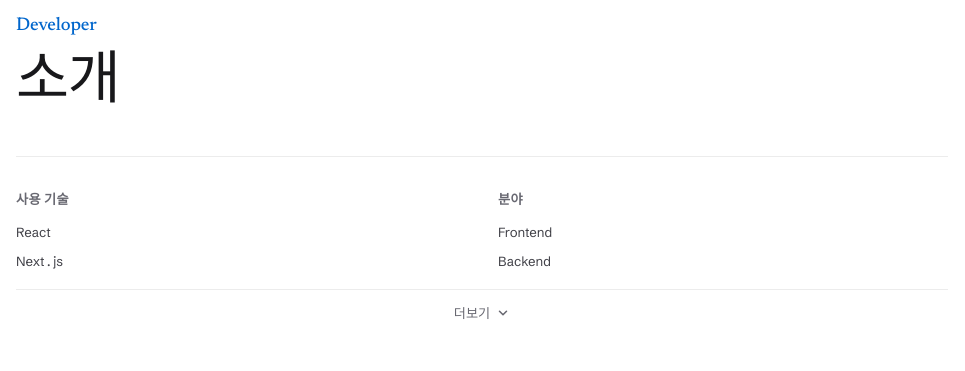
Test case: AboutSection › 긴 컬럼을 접어 표시하고 공용 버튼으로 함께 확장한다
Expected: the link "TypeScript" is not shown
Expected: the link "Design" is not shown
What coordinates should you click on to do the following:
click the button "더보기"
I would click on:
 (482, 313)
Its box is [448, 300, 516, 326].
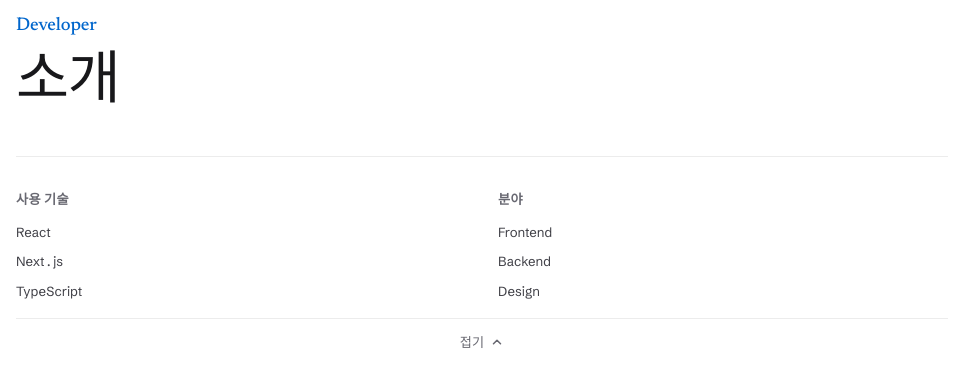
Now the link "TypeScript" is shown, box [16, 282, 82, 298]
Now the link "Design" is shown, box [498, 282, 540, 298]
Now the button "접기" is expanded, box [454, 330, 510, 355]
